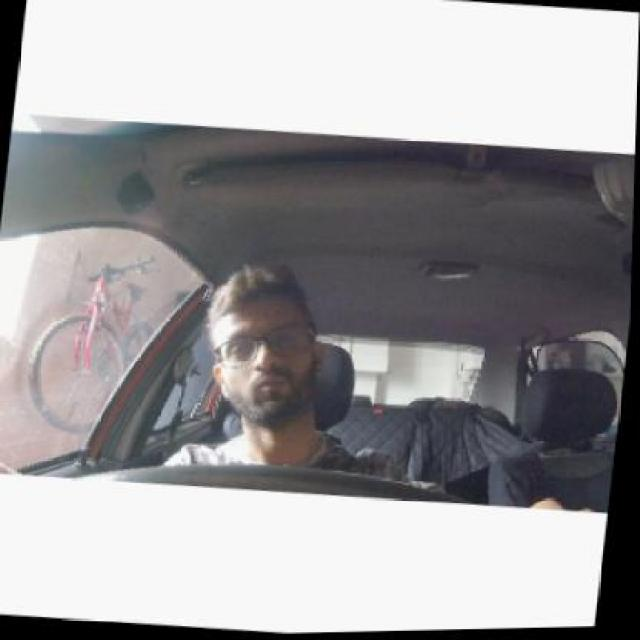drowsy: (199, 267, 325, 447)
